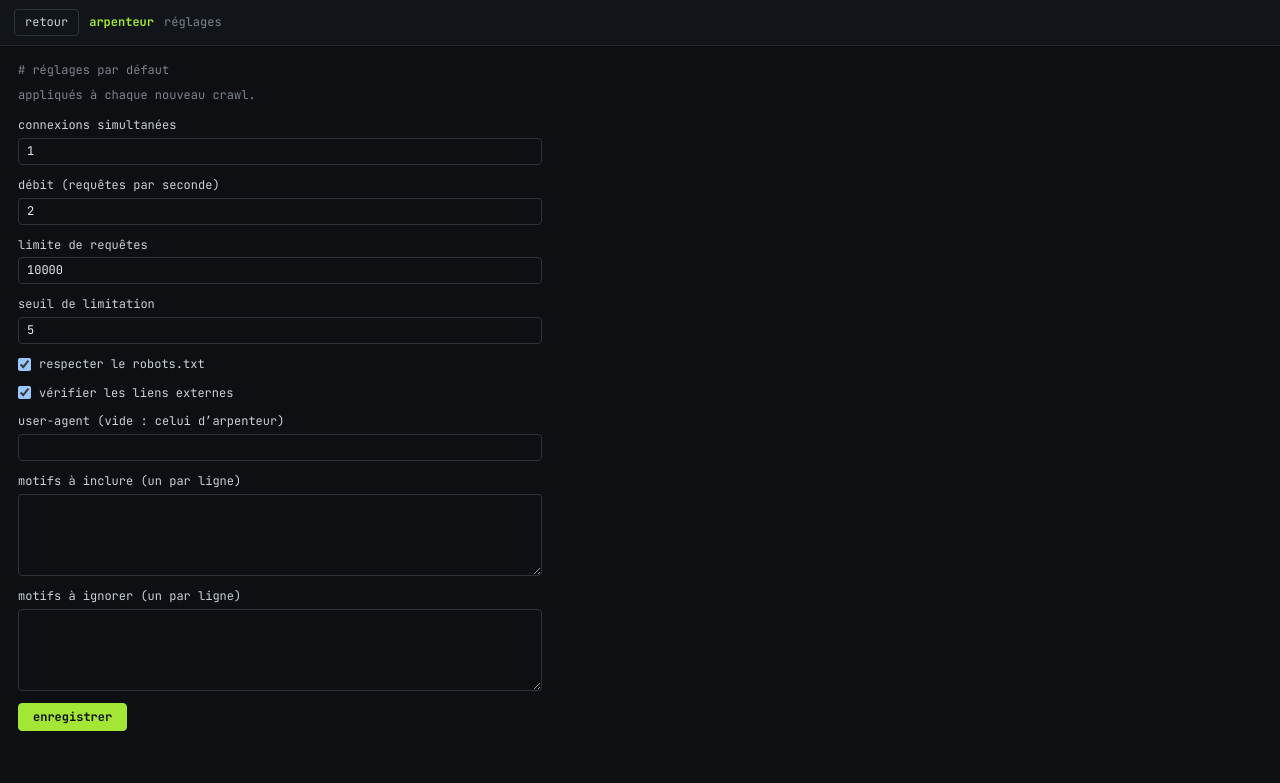
Test: les erreurs de validation s’affichent et rien n’est enregistré
Replace the text in the field labelled "débit (requêtes par seconde)" with "0" at (280, 211), box [18,198,542,225]
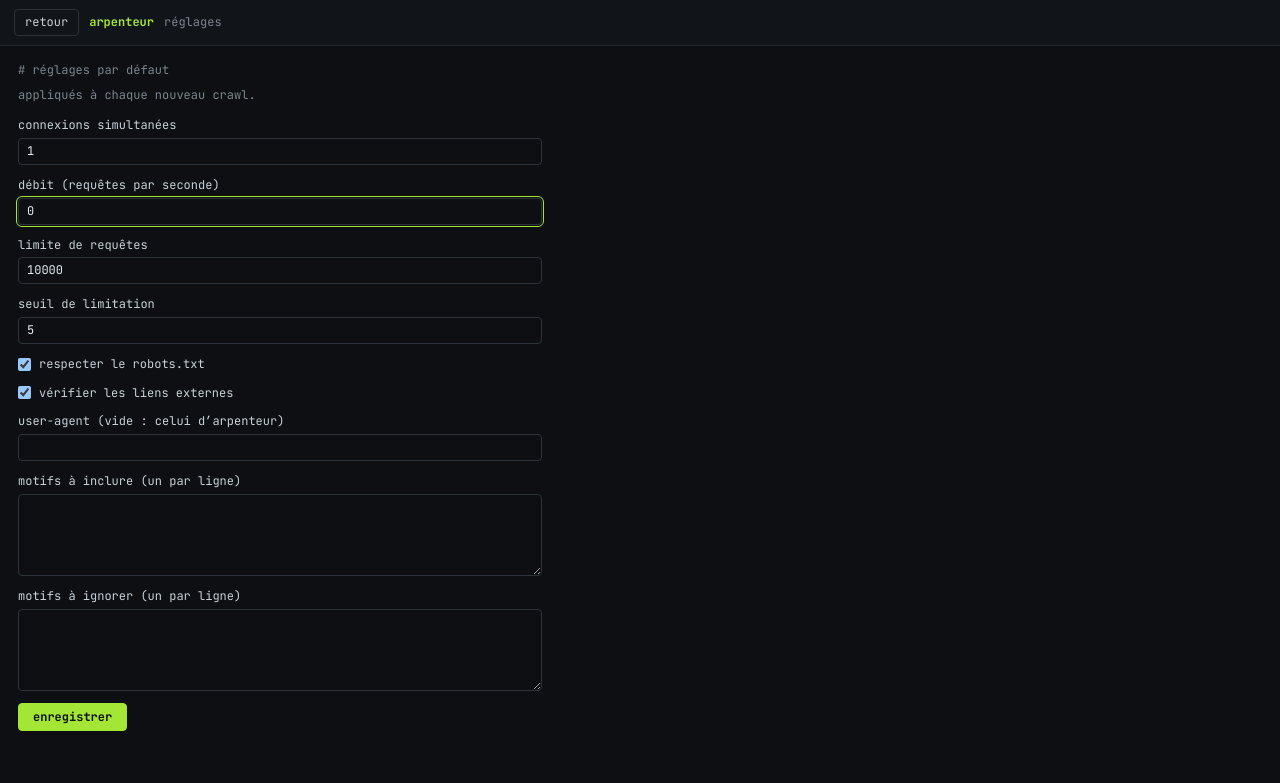
Click the button "enregistrer" at (73, 717), box [18,702,127,731]
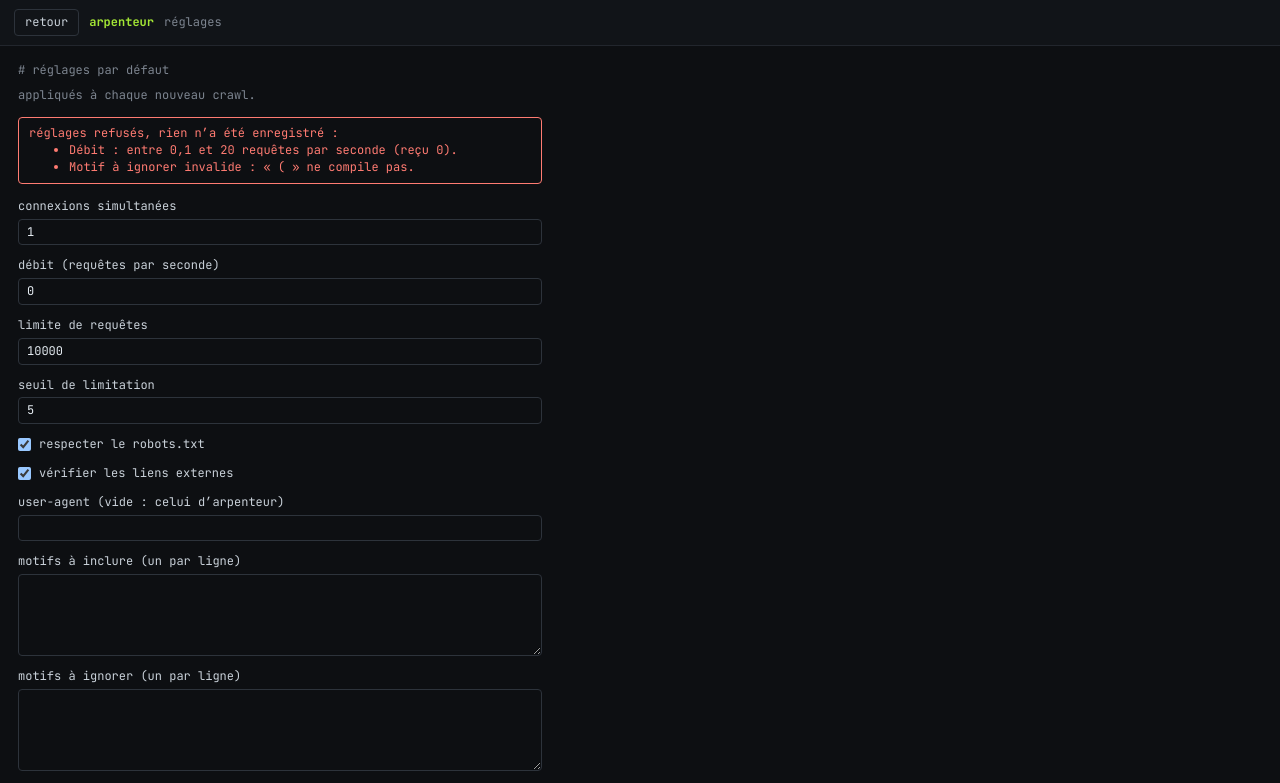
Now the message shows "Débit : entre 0,1 et 20", box [69,142,458,158]
Now the message shows "« ( » ne compile pas", box [69,159,415,175]
Now the number of list items is 2, box [69,142,458,158]; [69,159,415,175]
